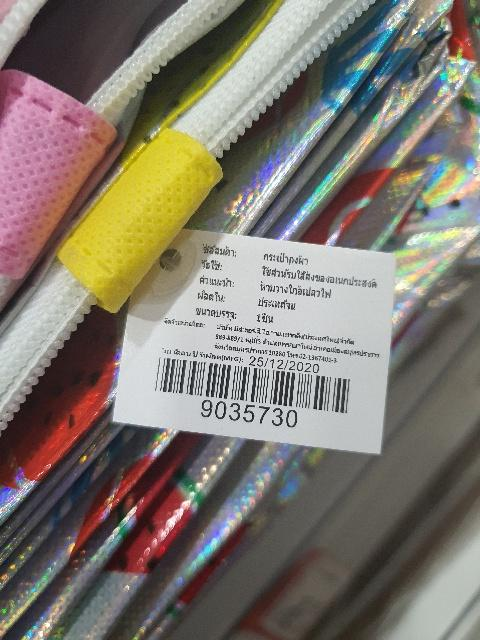Barcode: (142, 346, 364, 430)
